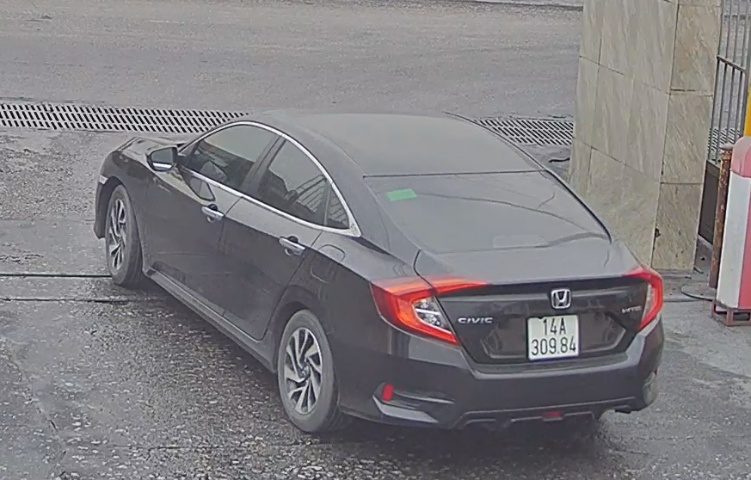vehicle plate: (520, 307, 586, 362)
